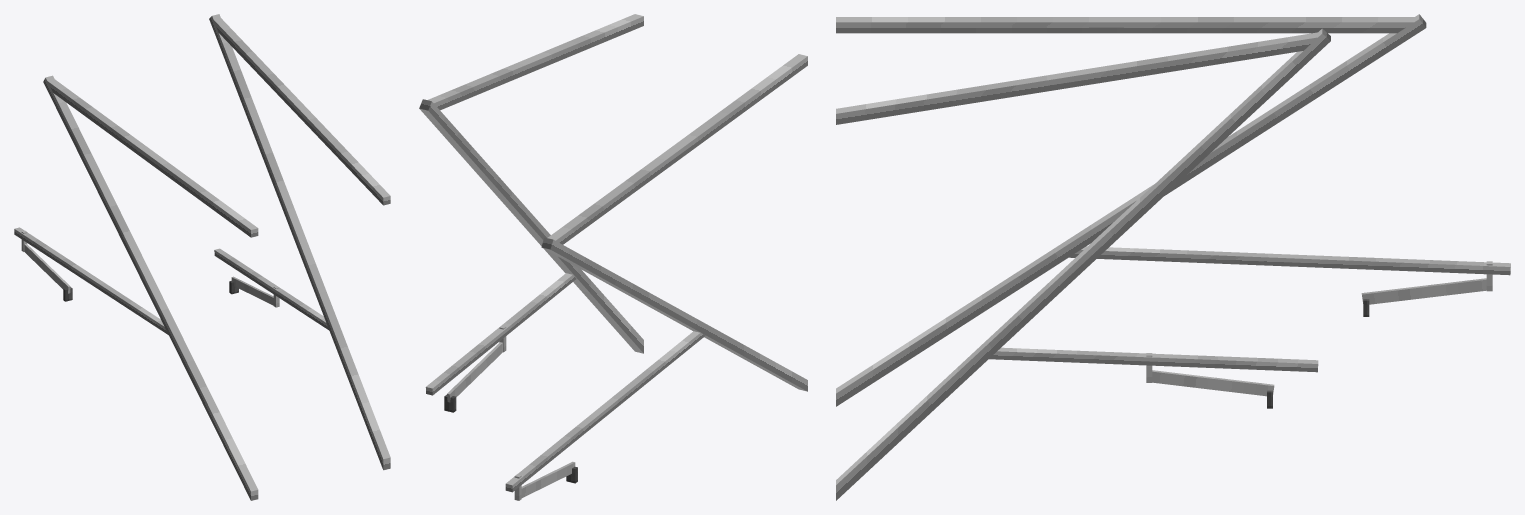
Rendered from cantilever_center_16px.obj.
3 renders of one model, left to right at view 1: azimuth 30°, elevation 25°; view 2: azimuth 150°, elevation 25°; view 3: azimuth 270°, elevation 25°, orthographic. The views are drawn at different scales.
Visible parts, largest first — view 1: 82614d5e-e84f-41e9-b173-fb770ba58aac, 5e451e31-d913-4a99-be94-e7929df60520, f7730796-42fb-4b07-be5d-cf0a3fa499c1, 38491268-aad7-45c1-9d84-920af5f78bb2, 1d604f93-0710-4772-a0d4-402ccdd44bab, c67c11c7-1c80-4794-ab0d-608cb78abe1a, 58bd4ccf-e165-42df-9c3f-ecbab55128cc, c995ab3a-2e6a-428b-95b5-75cb74cabd6d; view 2: f7730796-42fb-4b07-be5d-cf0a3fa499c1, 82614d5e-e84f-41e9-b173-fb770ba58aac, 5e451e31-d913-4a99-be94-e7929df60520, 38491268-aad7-45c1-9d84-920af5f78bb2, 1d604f93-0710-4772-a0d4-402ccdd44bab, c67c11c7-1c80-4794-ab0d-608cb78abe1a, c995ab3a-2e6a-428b-95b5-75cb74cabd6d, 58bd4ccf-e165-42df-9c3f-ecbab55128cc; view 3: 82614d5e-e84f-41e9-b173-fb770ba58aac, 5e451e31-d913-4a99-be94-e7929df60520, f7730796-42fb-4b07-be5d-cf0a3fa499c1, 38491268-aad7-45c1-9d84-920af5f78bb2, 1d604f93-0710-4772-a0d4-402ccdd44bab, c67c11c7-1c80-4794-ab0d-608cb78abe1a, 58bd4ccf-e165-42df-9c3f-ecbab55128cc, c995ab3a-2e6a-428b-95b5-75cb74cabd6d.
Part boxes in pixels (x1,y1,x2,y2): 82614d5e-e84f-41e9-b173-fb770ba58aac: (209, 14, 390, 470); 5e451e31-d913-4a99-be94-e7929df60520: (43, 75, 258, 500); f7730796-42fb-4b07-be5d-cf0a3fa499c1: (47, 79, 258, 237); 38491268-aad7-45c1-9d84-920af5f78bb2: (214, 18, 390, 205); 1d604f93-0710-4772-a0d4-402ccdd44bab: (14, 227, 168, 334); c67c11c7-1c80-4794-ab0d-608cb78abe1a: (214, 248, 329, 330); 58bd4ccf-e165-42df-9c3f-ecbab55128cc: (24, 244, 70, 293); c995ab3a-2e6a-428b-95b5-75cb74cabd6d: (231, 276, 273, 305); f7730796-42fb-4b07-be5d-cf0a3fa499c1: (547, 54, 807, 244); 82614d5e-e84f-41e9-b173-fb770ba58aac: (419, 99, 643, 353); 5e451e31-d913-4a99-be94-e7929df60520: (541, 237, 807, 391); 38491268-aad7-45c1-9d84-920af5f78bb2: (427, 14, 643, 110); 1d604f93-0710-4772-a0d4-402ccdd44bab: (505, 331, 705, 492); c67c11c7-1c80-4794-ab0d-608cb78abe1a: (425, 273, 576, 395); c995ab3a-2e6a-428b-95b5-75cb74cabd6d: (447, 342, 502, 402); 58bd4ccf-e165-42df-9c3f-ecbab55128cc: (521, 461, 575, 497); 82614d5e-e84f-41e9-b173-fb770ba58aac: (836, 28, 1330, 500); 5e451e31-d913-4a99-be94-e7929df60520: (836, 14, 1426, 406); f7730796-42fb-4b07-be5d-cf0a3fa499c1: (836, 17, 1414, 33); 38491268-aad7-45c1-9d84-920af5f78bb2: (836, 32, 1317, 124); 1d604f93-0710-4772-a0d4-402ccdd44bab: (1069, 246, 1510, 275); c67c11c7-1c80-4794-ab0d-608cb78abe1a: (989, 347, 1318, 372); 58bd4ccf-e165-42df-9c3f-ecbab55128cc: (1361, 278, 1486, 304); c995ab3a-2e6a-428b-95b5-75cb74cabd6d: (1152, 370, 1274, 396).
Size of the model in its own units: 1.19 by 2.68 by 3.5.
